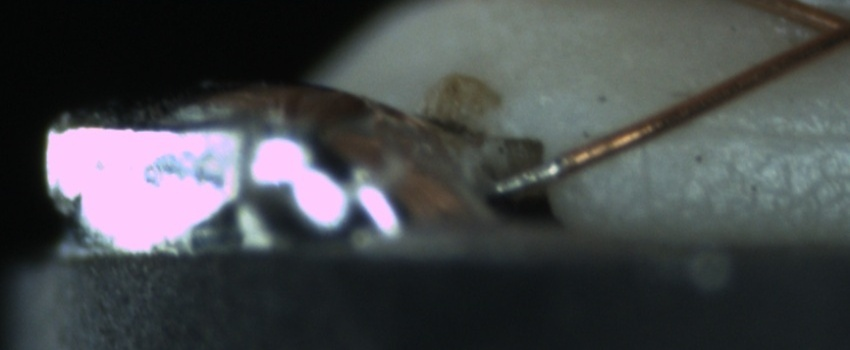CL: (793, 4, 850, 58)
DL: (668, 98, 848, 165)
TS: (486, 159, 566, 194)
